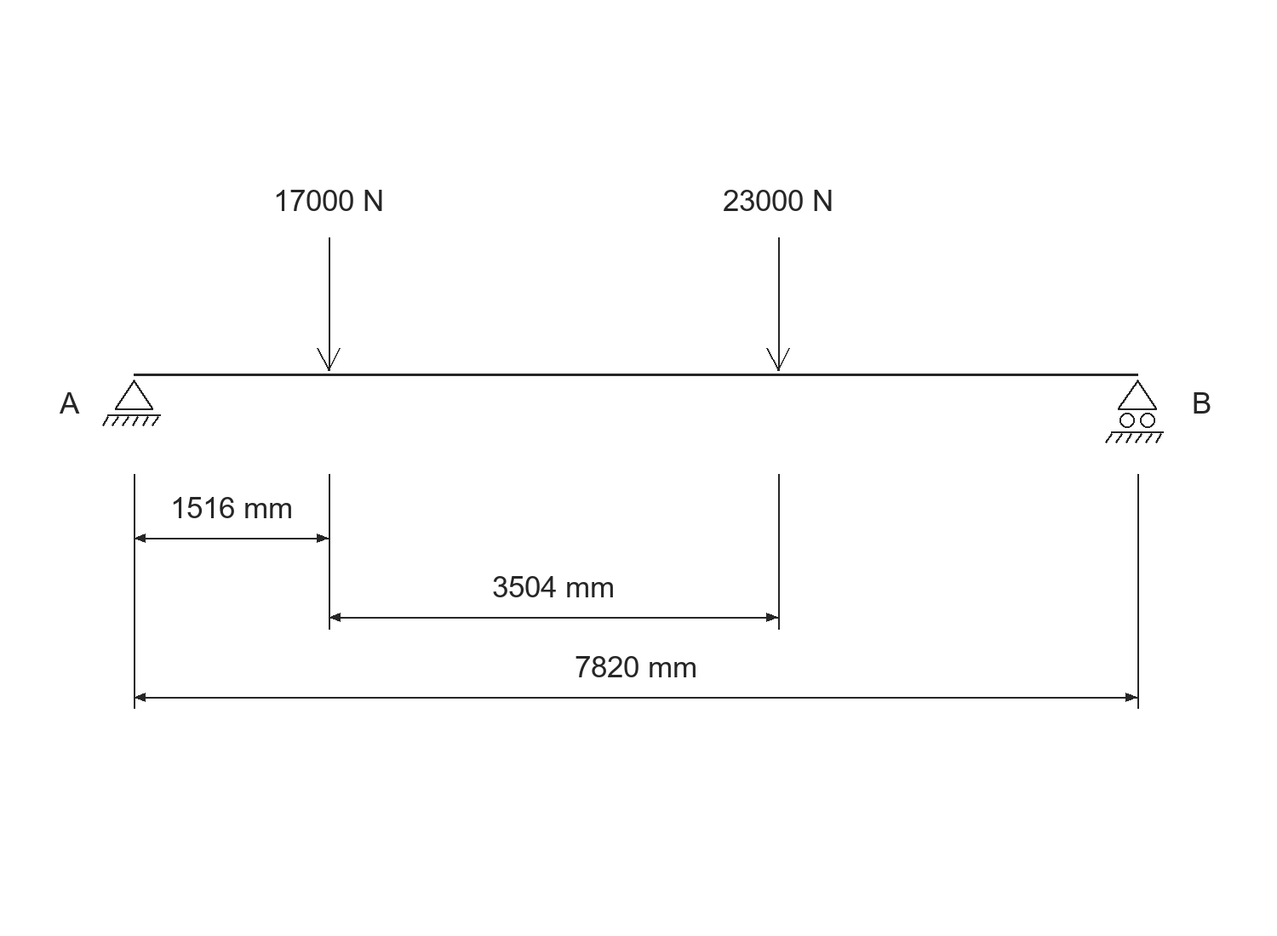pin_support: (102, 380, 161, 426)
point_load: (317, 237, 341, 371), (766, 237, 790, 371)
roller_support: (1105, 380, 1164, 443)
